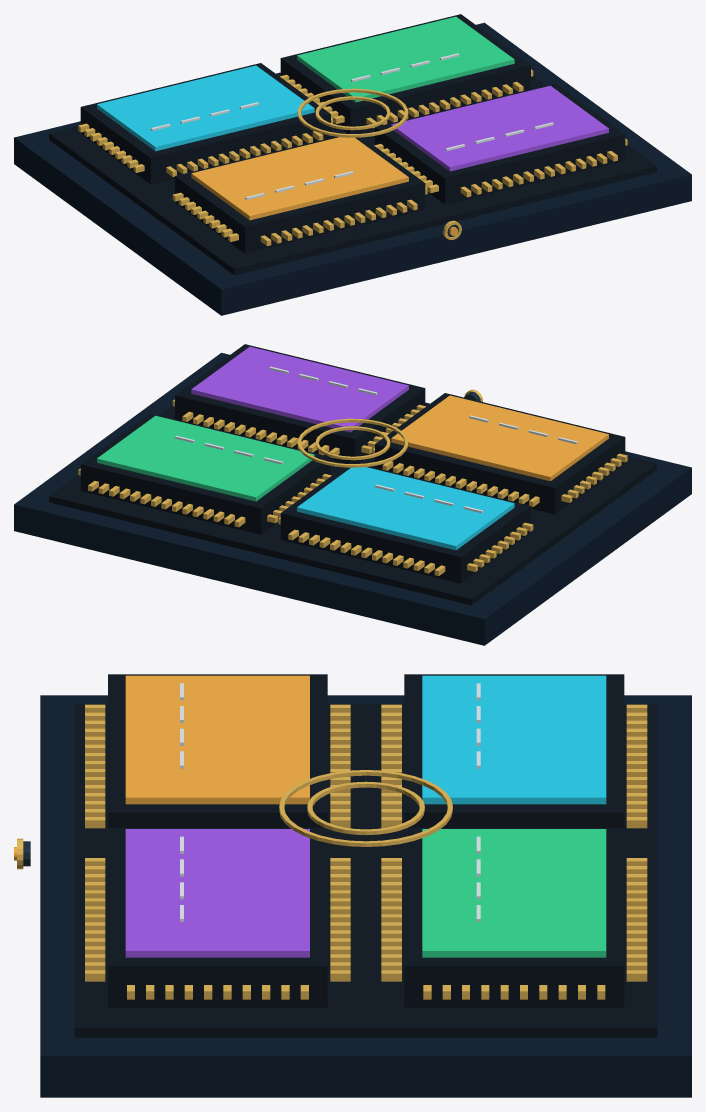
File: 03_L81_CompletedPhotonicChipletComputer.fbx
3 views of the same model, one above another, from view 1: azimuth 30°, elevation 25°; view 2: azimuth 150°, elevation 25°; view 3: azimuth 270°, elevation 25° (orthographic). The views are drawn at different scales.
Visible parts, largest first — view 1: CompletedPhotonicChipletComputer; view 2: CompletedPhotonicChipletComputer; view 3: CompletedPhotonicChipletComputer.
Part boxes in pixels (box(x1,y1,x2,y2)): CompletedPhotonicChipletComputer: box(14, 14, 691, 315); CompletedPhotonicChipletComputer: box(14, 344, 691, 645); CompletedPhotonicChipletComputer: box(14, 674, 691, 1097).
Size of the model in its own units: 334 by 47.8 by 265.
